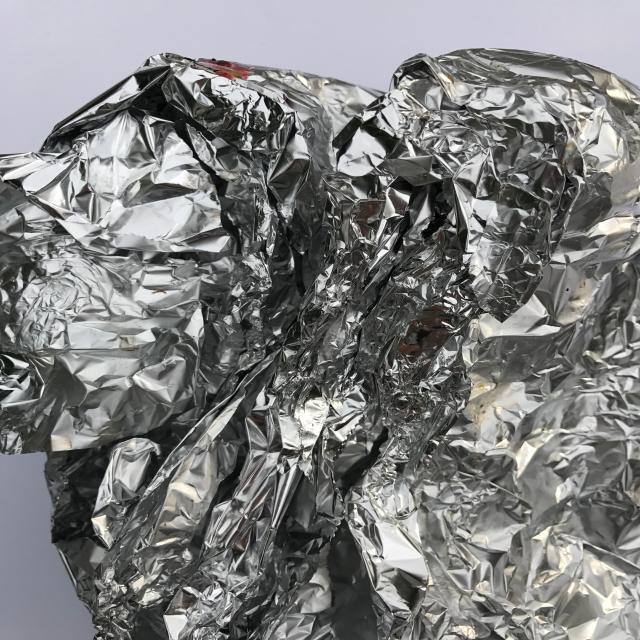metal: (1, 44, 640, 639)
